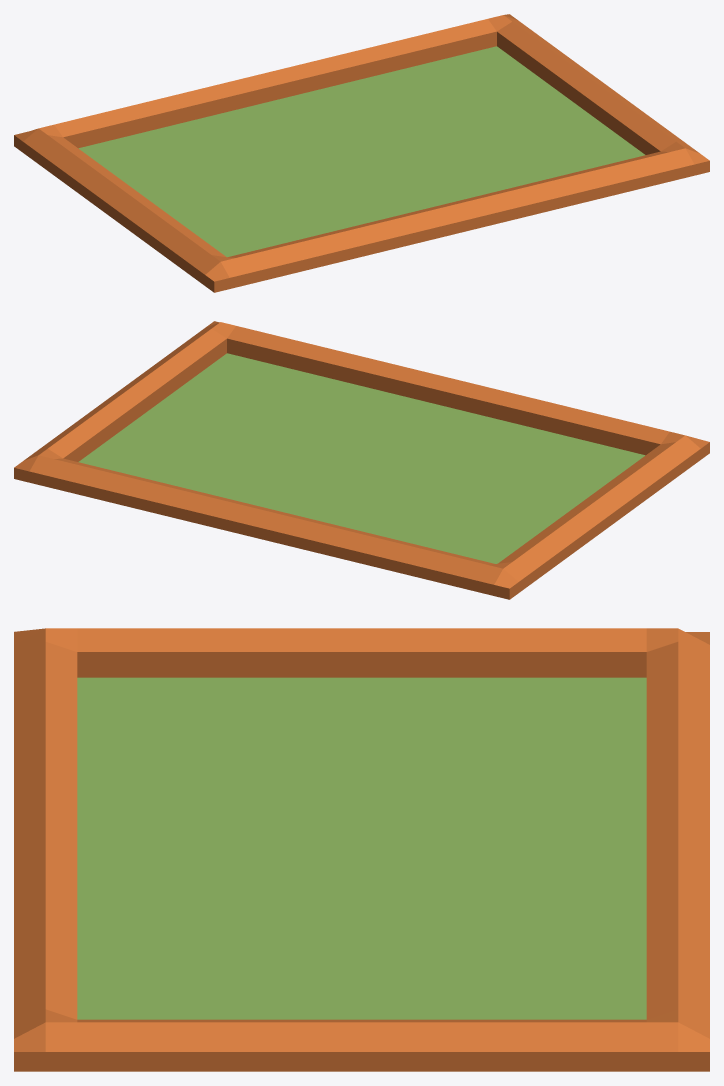
Rendered from portraitVerde.fbx.
3 renders of one model, top to bottom at view 1: azimuth 30°, elevation 25°; view 2: azimuth 150°, elevation 25°; view 3: azimuth 270°, elevation 25°, orthographic. The views are drawn at different scales.
Parts seen in each view (by area): view 1: Cube; view 2: Cube; view 3: Cube.
Part boxes in pixels (<box>): Cube: <box>14,14,709,292</box>; Cube: <box>14,321,709,599</box>; Cube: <box>14,628,709,1071</box>.
Size of the model in its own units: 500 by 20 by 350.
Materials: 1 (1 with a texture image).
